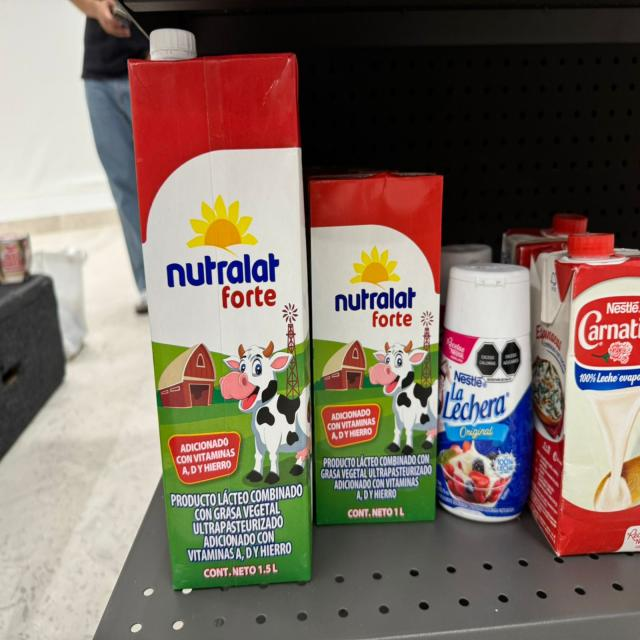CARNATION Leche Evaporada 720g: (527, 233, 640, 557), (501, 213, 588, 268)
La Lechera Sirve Facil 335gr Bote: (437, 263, 532, 521), (440, 244, 492, 306)
PLC NUTRALAT FORTE 1 LT: (309, 173, 442, 525)
PLC NUTRALAT FORTE 1.5 LT: (130, 29, 312, 590)
